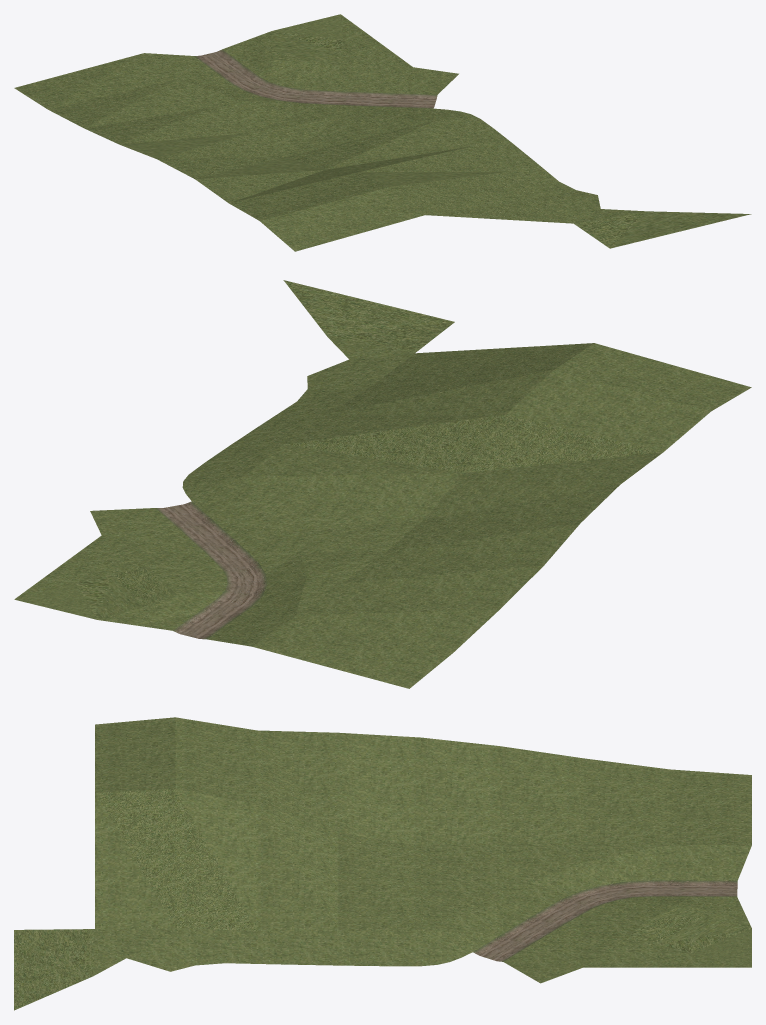
File: cen_bit_17.obj
3 views of the same model, one above another, from view 1: azimuth 30°, elevation 25°; view 2: azimuth 150°, elevation 25°; view 3: azimuth 270°, elevation 25° (orthographic). The views are drawn at different scales.
Visible parts, largest first — view 1: cen_bit_17; view 2: cen_bit_17; view 3: cen_bit_17.
Boxes of the visible parts, box(x1,y1,x2,y2) form: cen_bit_17: box(14, 14, 751, 251); cen_bit_17: box(14, 280, 751, 688); cen_bit_17: box(14, 717, 751, 1010).
Size of the model in its own units: 149 by 19.54 by 193.
2 materials, 2 textured.
